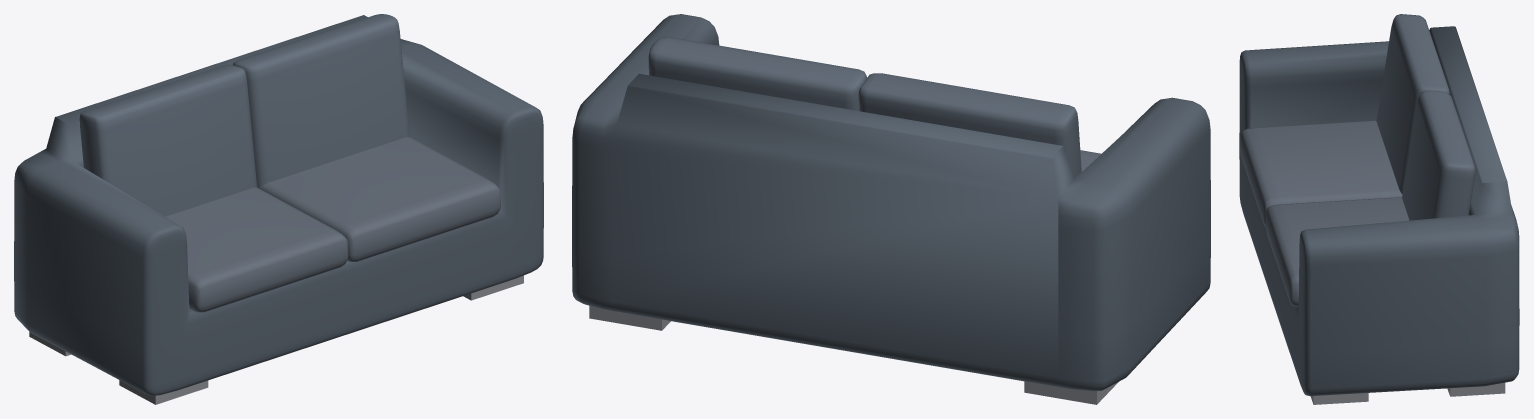
Rendered from duo sofa.fbx.
3 renders of one model, left to right at view 1: azimuth 30°, elevation 25°; view 2: azimuth 150°, elevation 25°; view 3: azimuth 270°, elevation 25°, orthographic. The views are drawn at different scales.
Parts seen in each view (by area): view 1: sofa2; view 2: sofa2; view 3: sofa2.
Boxes of the visible parts, x1,y1,x2,y2 form: sofa2: (14, 14, 543, 404); sofa2: (572, 14, 1210, 404); sofa2: (1239, 14, 1519, 404).
Bounding box in the file's own units: 266 × 125 × 148.
